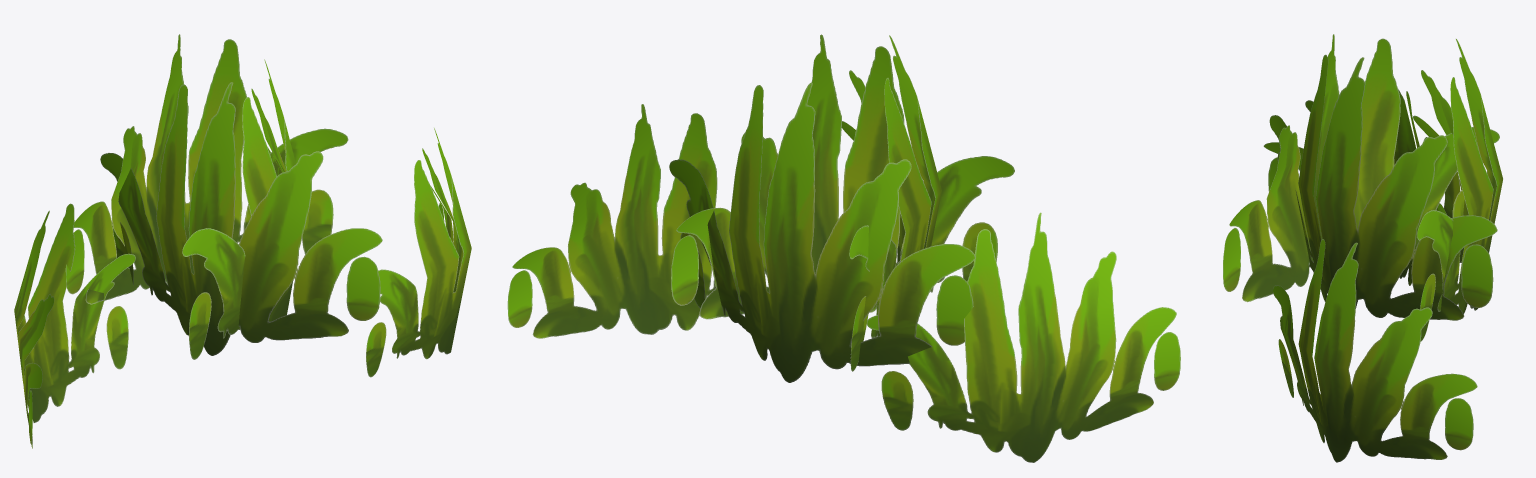
The model's file is MESH_Grass_Short.fbx.
3 renders of one model, left to right at view 1: azimuth 30°, elevation 25°; view 2: azimuth 150°, elevation 25°; view 3: azimuth 270°, elevation 25°, orthographic. The views are drawn at different scales.
Parts seen in each view (by area): view 1: pPlane5, pPlane4, pPlane8, pPlane7, pPlane6; view 2: pPlane4, pPlane8, pPlane7, pPlane6, pPlane5; view 3: pPlane6, pPlane7, pPlane5, pPlane4, pPlane8.
Part boxes in pixels (x1,y1,x2,y2): pPlane5: [100, 82, 382, 355]; pPlane4: [65, 34, 348, 304]; pPlane8: [14, 203, 135, 448]; pPlane7: [366, 128, 471, 377]; pPlane6: [182, 59, 295, 359]; pPlane4: [669, 83, 975, 382]; pPlane8: [867, 212, 1180, 462]; pPlane7: [507, 104, 717, 338]; pPlane6: [671, 34, 1014, 319]; pPlane5: [841, 35, 941, 371]; pPlane6: [1269, 54, 1497, 320]; pPlane7: [1273, 239, 1477, 462]; pPlane5: [1223, 34, 1499, 302]; pPlane4: [1413, 39, 1502, 341]; pPlane8: [1263, 89, 1446, 285].
Bounding box in the file's own units: 0.5211 × 0.3277 × 0.2688.
1 material, 1 textured.
